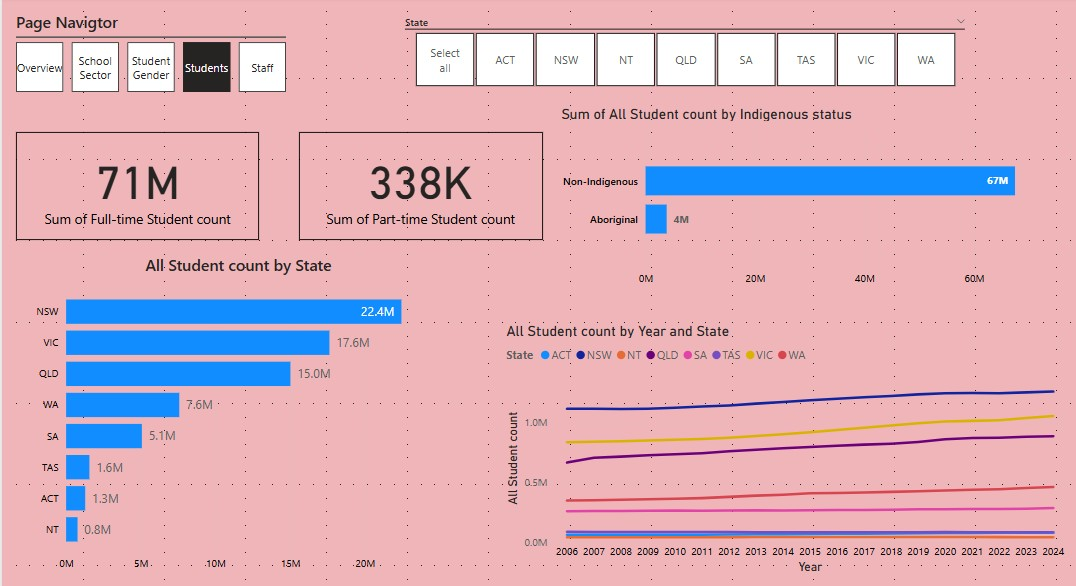

What the dashboard file says about the page in this screenshot:
{"tool":"powerbi","page":{"name":"Students","canvas":[1280,720],"ordinal":4},"visuals":[{"type":"card","fields":{"Values":["Sum(Students.Full-time Student count)"]},"box":[168,168,200,240],"z":0},{"type":"card","fields":{"Values":["Sum(Students.Part-time Student count)"]},"box":[168,424,200,264],"z":1000},{"type":"barChart","title":"Student Count by Indigenous status","fields":{"Y":["Sum(Students.All Student count)"],"Category":["Students.Indigenous status"]},"box":[880,336,360,360],"z":2000},{"type":"barChart","title":"Student Count by State","fields":{"Y":["All Measures.All Student count"],"Category":["DimState.State"]},"box":[424,336,440,360],"z":3000},{"type":"lineChart","title":"Student Count by Year and State","fields":{"Category":["DimDates.Year"],"Series":["DimState.State"],"Y":["All Measures.All Student count"]},"box":[416,16,824,304],"z":4000},{"type":"slicer","title":"State","fields":{"Values":["DimState.State"]},"box":[16,160,144,536],"z":5000},{"type":"pageNavigator","title":"Page Navigtor","box":[8,16,360,136],"z":5001}]}

Visuals, with their boxes on the page's 1280x720 design canvas (x1, y1, x2, y2). These are canvas units, not pixel positions in the 1076x586 screenshot, which may show the page scaled, cropped or inside an application window:
card - Sum(Students.Full-time Student count): crop(168, 168, 368, 408)
card - Sum(Students.Part-time Student count): crop(168, 424, 368, 688)
"Student Count by Indigenous status" barChart: crop(880, 336, 1240, 696)
"Student Count by State" barChart: crop(424, 336, 864, 696)
"Student Count by Year and State" lineChart: crop(416, 16, 1240, 320)
"State" slicer: crop(16, 160, 160, 696)
"Page Navigtor" pageNavigator: crop(8, 16, 368, 152)
